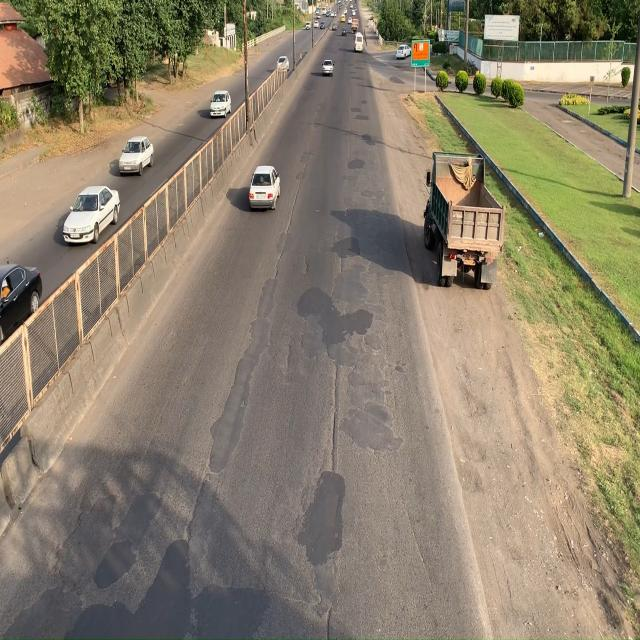Truck: (424, 156, 508, 298)
cars: (0, 257, 42, 346), (60, 183, 119, 246), (247, 164, 281, 211), (118, 132, 155, 175)
